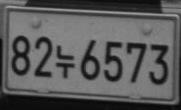2: (33, 35, 53, 77)
3: (148, 43, 169, 85)
5: (103, 40, 123, 82)
6: (79, 39, 100, 80)
7: (126, 41, 148, 83)
8: (10, 34, 30, 76)
누: (54, 44, 75, 79)
